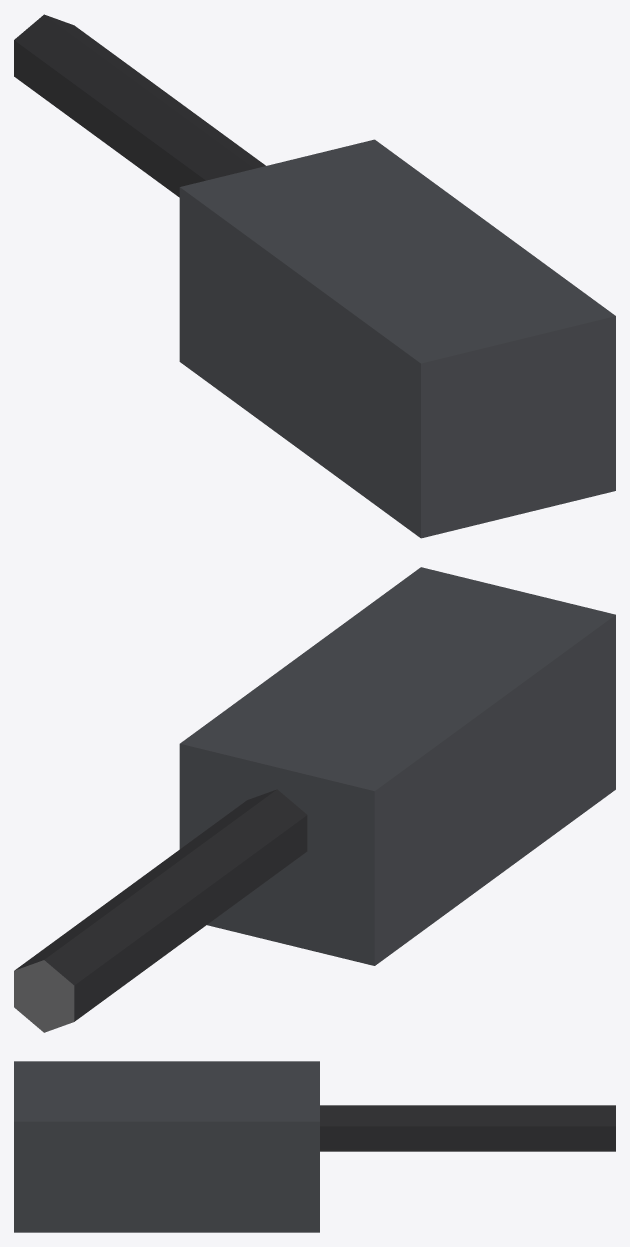
File: Building_Turret_TacticalTurret__Top.glb
The picture shows the model from 3 angles, top to bottom: view 1: azimuth 30°, elevation 25°; view 2: azimuth 150°, elevation 25°; view 3: azimuth 270°, elevation 25°; orthographic projection. The views are drawn at different scales.
Parts seen in each view (by area): view 1: Turret_TacticalTurret__Top; view 2: Turret_TacticalTurret__Top; view 3: Turret_TacticalTurret__Top.
Boxes of the visible parts, x1=… form: Turret_TacticalTurret__Top: x1=14, y1=14, x2=615, y2=538; Turret_TacticalTurret__Top: x1=14, y1=567, x2=615, y2=1032; Turret_TacticalTurret__Top: x1=14, y1=1061, x2=615, y2=1232.
Bounding box in the file's own units: 0.14 × 0.12 × 0.59.
1 material, 1 textured.
